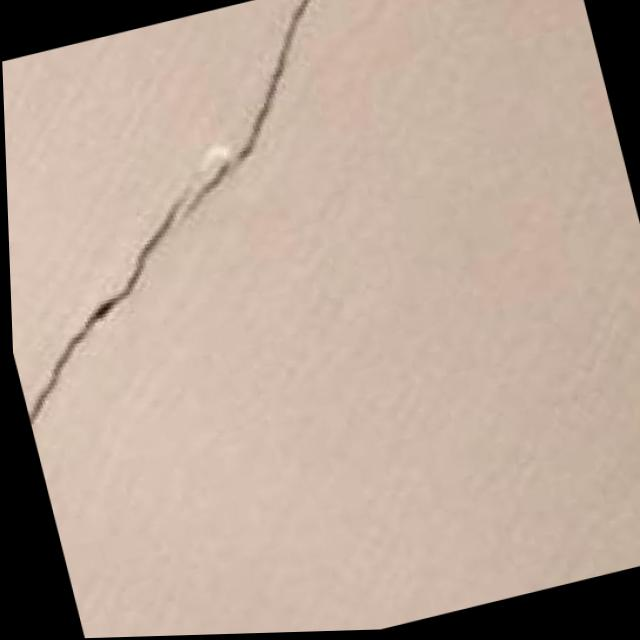Crack: (0, 0, 421, 451)
